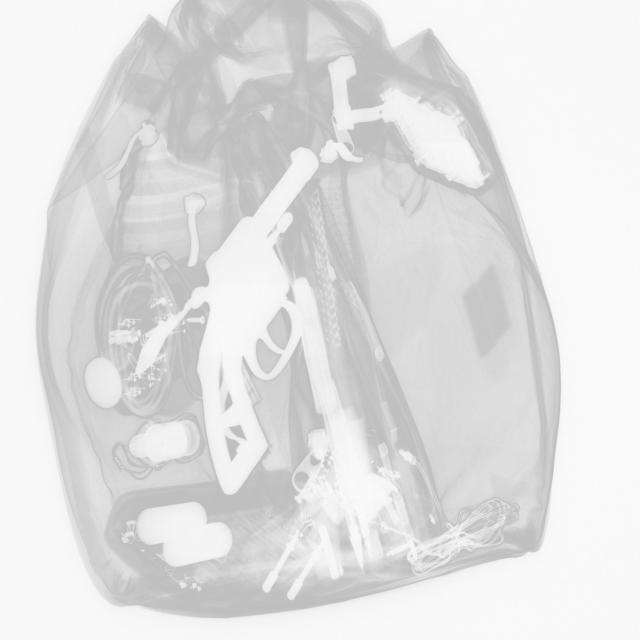pistol: (196, 146, 319, 495)
